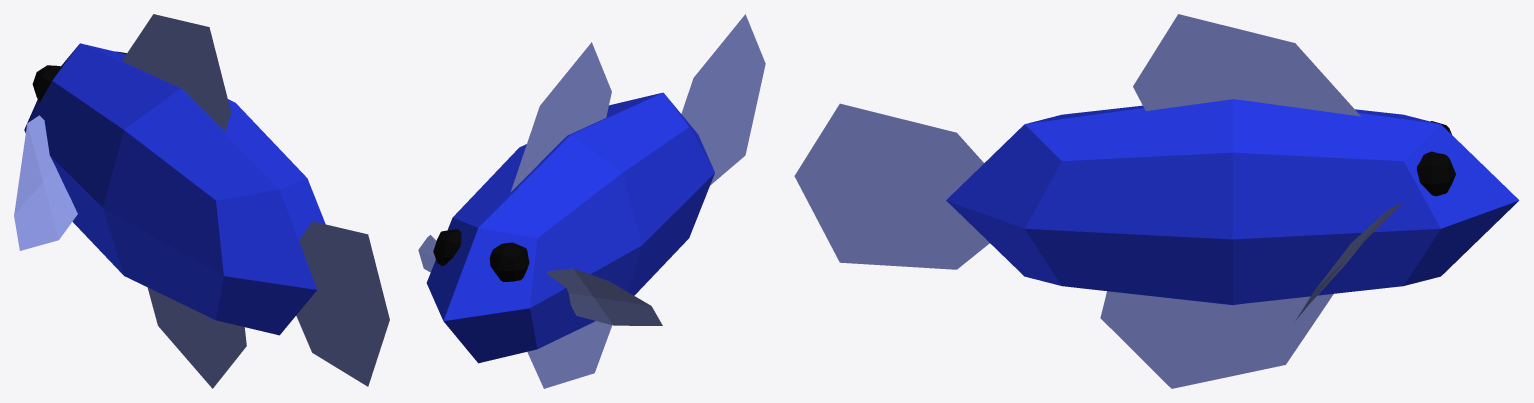
The model's file is poisson.glb.
3 views of the same model, side by side, from view 1: azimuth 30°, elevation 25°; view 2: azimuth 150°, elevation 25°; view 3: azimuth 270°, elevation 25° (orthographic). The views are drawn at different scales.
Visible parts, largest first — view 1: Cube; view 2: Cube; view 3: Cube.
Part boxes in pixels (x1=…): Cube: x1=14, y1=14, x2=389, y2=388; Cube: x1=418, y1=14, x2=765, y2=388; Cube: x1=794, y1=14, x2=1519, y2=388.
Size of the model in its own units: 10.76 by 14.28 by 25.03.
